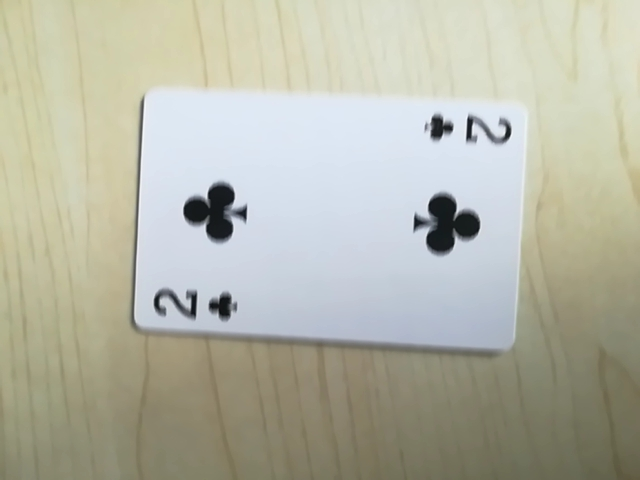mh 2: (421, 106, 516, 152), (148, 285, 243, 327)
